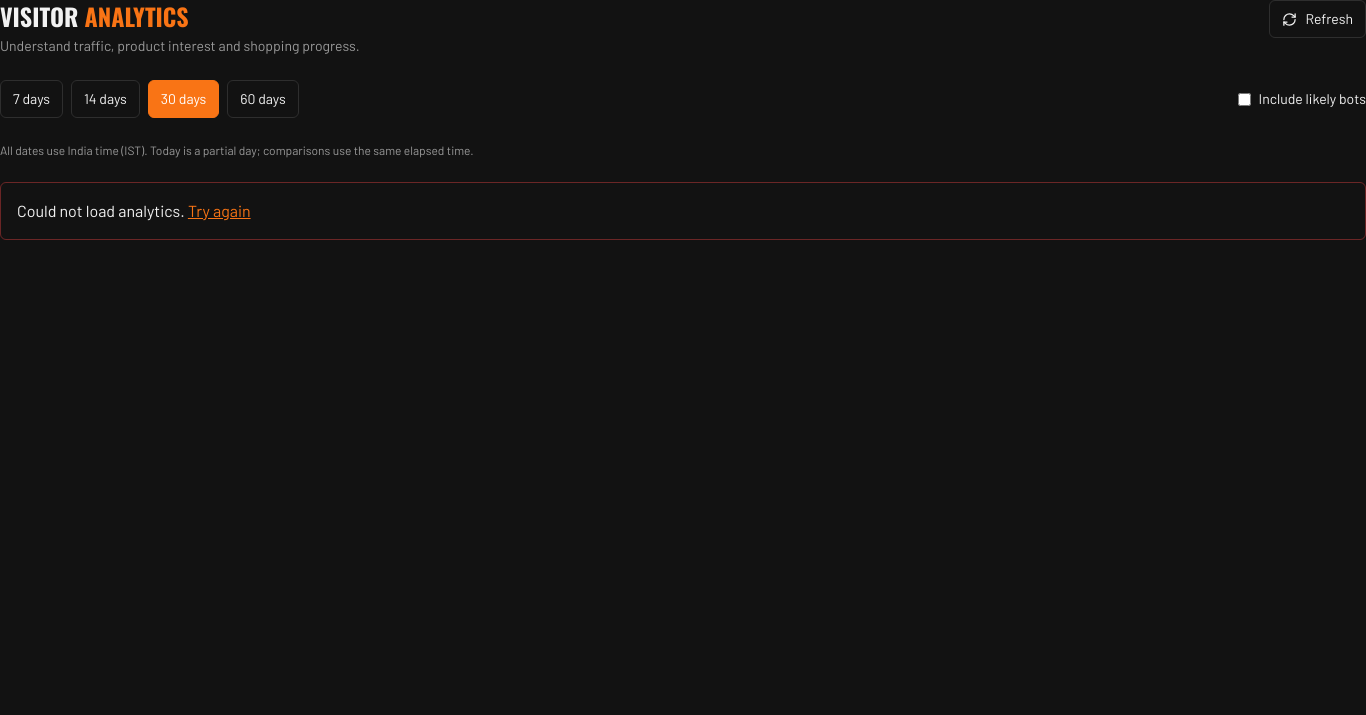
Test: provides retry on API failure
expect the message "Could not load analytics. Try again" is shown: met, box top-left (0, 182), bottom-right (1365, 240)
Click the button "Try again": {"x": 219, "y": 211} top-left (188, 199), bottom-right (251, 223)
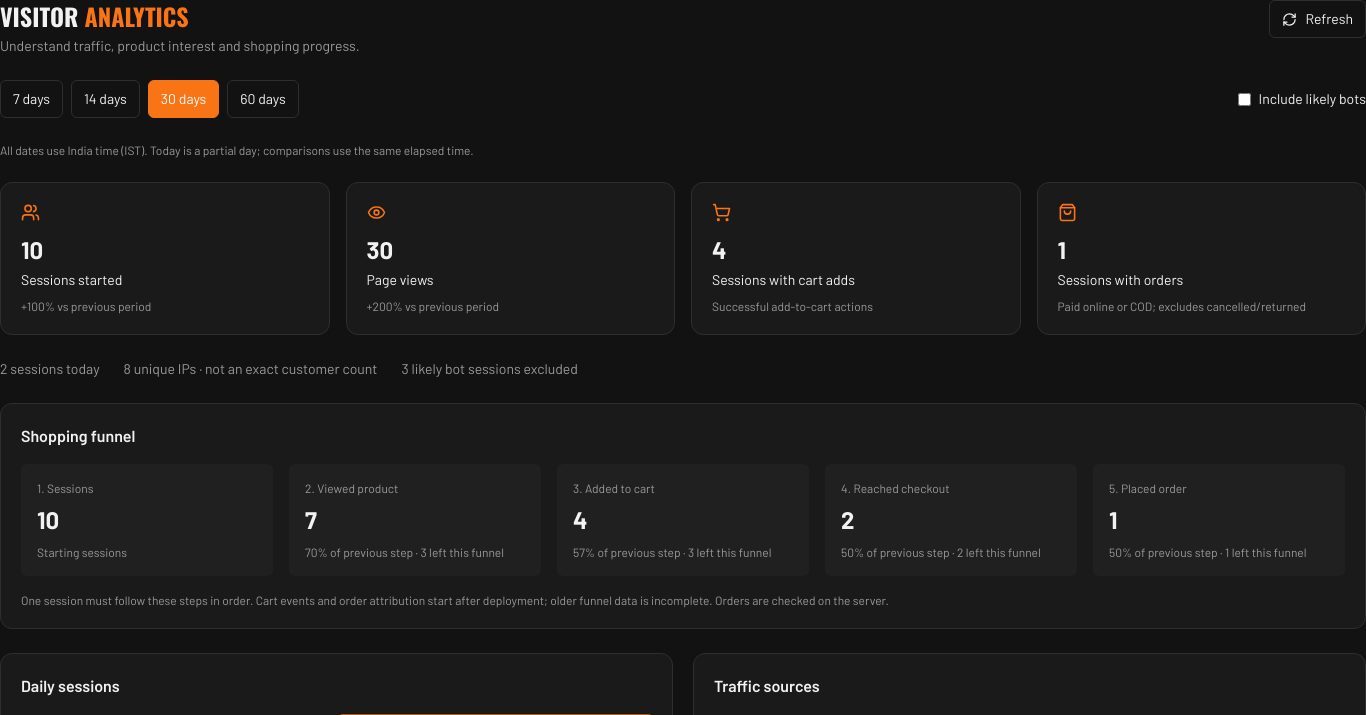
expect the heading "Shopping funnel" is shown: met, box top-left (21, 426), bottom-right (135, 445)
